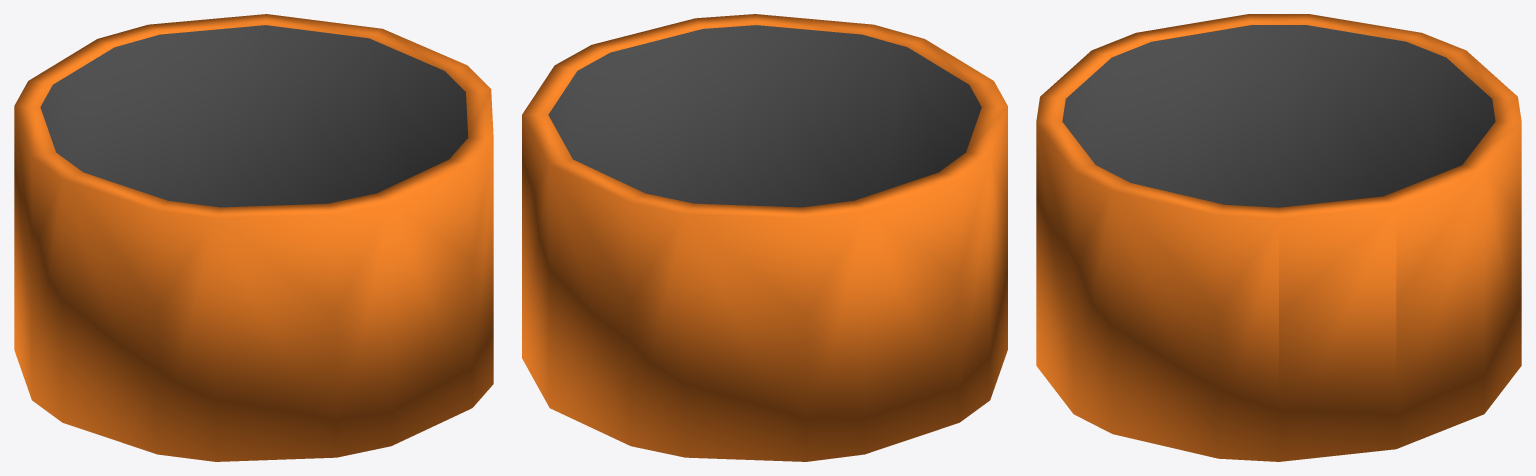
Rendered from Pot_2 - Proxy.fbx.
3 renders of one model, left to right at view 1: azimuth 30°, elevation 25°; view 2: azimuth 150°, elevation 25°; view 3: azimuth 270°, elevation 25°, orthographic.
Parts seen in each view (by area): view 1: pot_2; view 2: pot_2; view 3: pot_2.
Part boxes in pixels (x1,y1,x2,y2): pot_2: (14, 14, 493, 461); pot_2: (522, 14, 1007, 461); pot_2: (1036, 14, 1521, 461).
Bounding box in the file's own units: 34.91 × 19.33 × 34.98.
